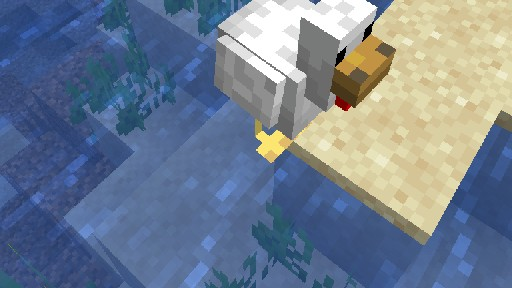chicken: (213, 0, 396, 163)
